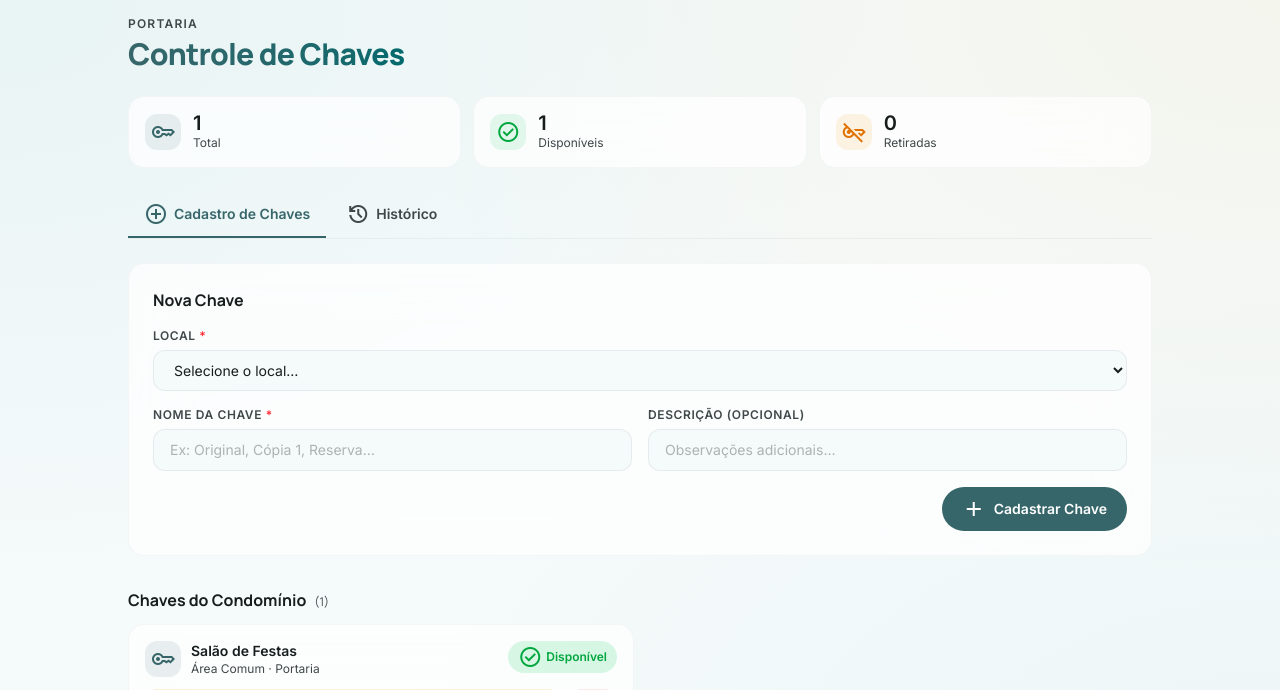
Chaves — abas › alterna para o histórico e pede que se escolha uma chave
This screenshot has width=1280, height=690.
Expected: the text "Salão de Festas" is shown, [191,642,297,659]
Step 1. Click the button "Histórico" → (392,215), box [330,192,453,238]
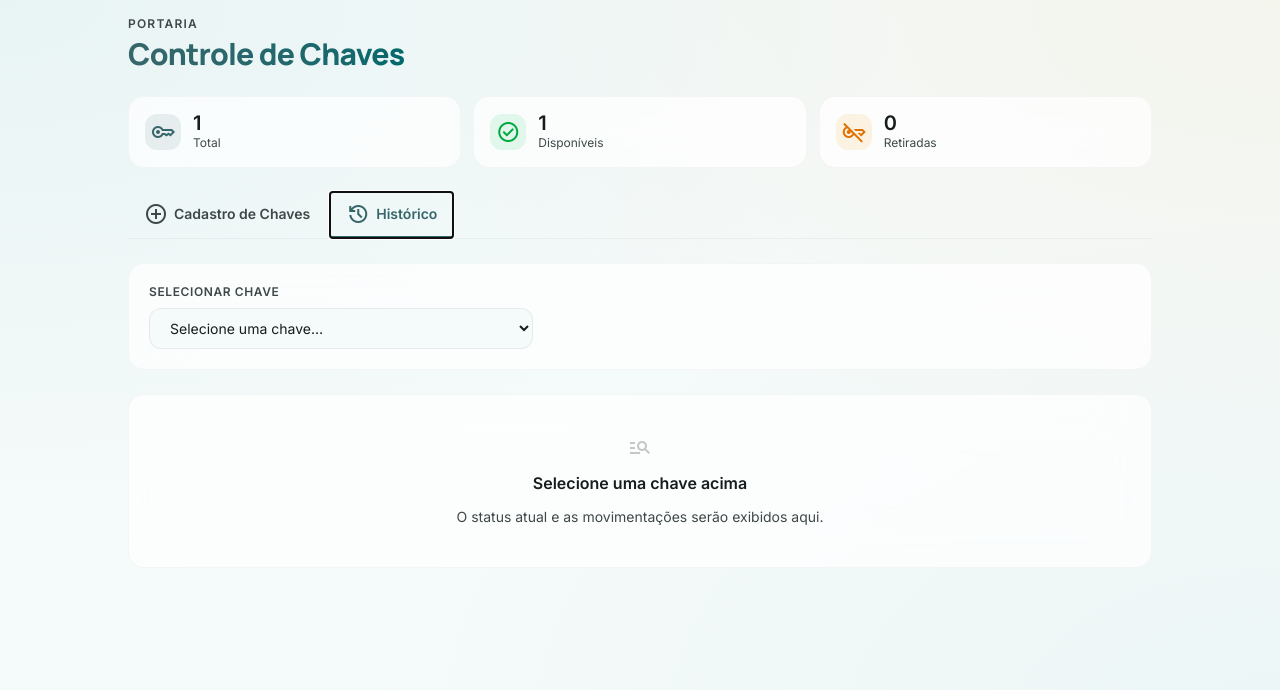
Now the text "Selecione uma chave acima" is shown, box [533,471,747,495]
